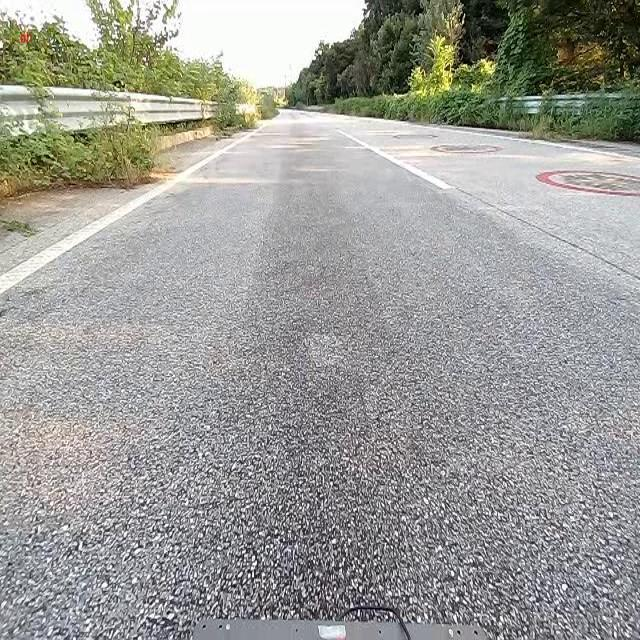Lane: (0, 112, 268, 307), (0, 130, 256, 295), (332, 120, 457, 203), (341, 130, 452, 190)
